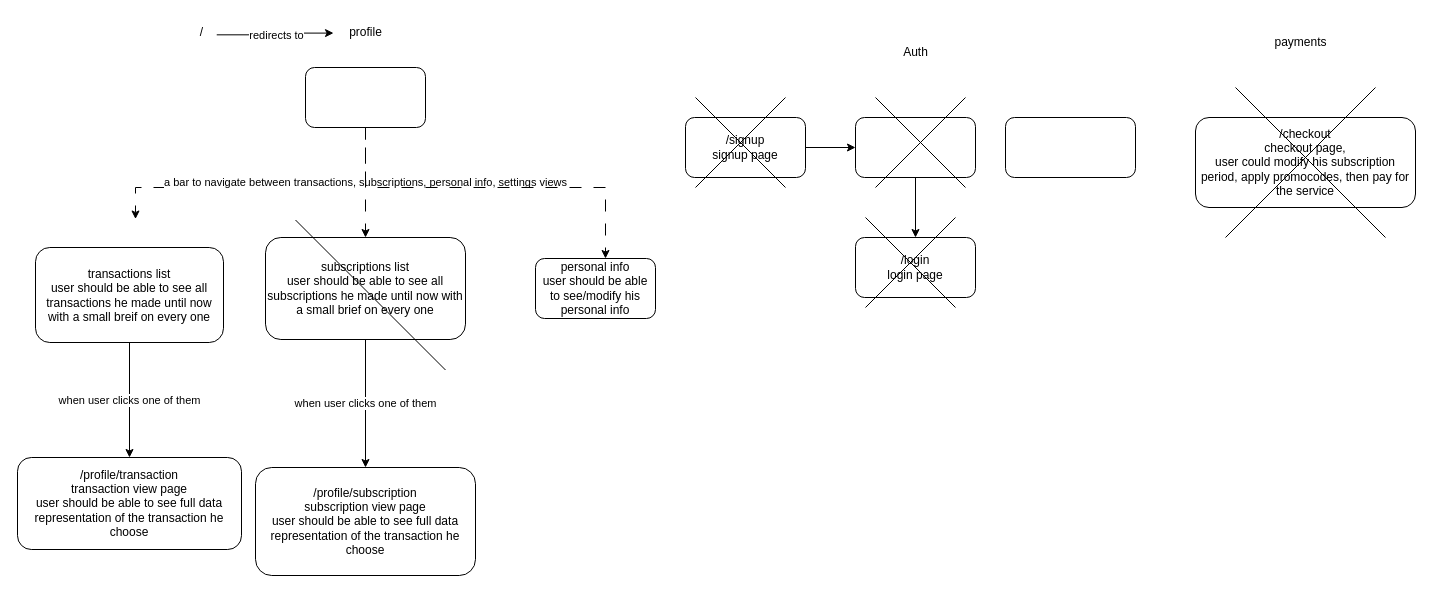
This 1433x593 diagram has some shape labels left out. Each missing label, with the centre of its shape:
"/confirm confirm email page" goes at (915,147).
"/resetPass reset password page" goes at (1070,147).
"profile page" goes at (365,97).
